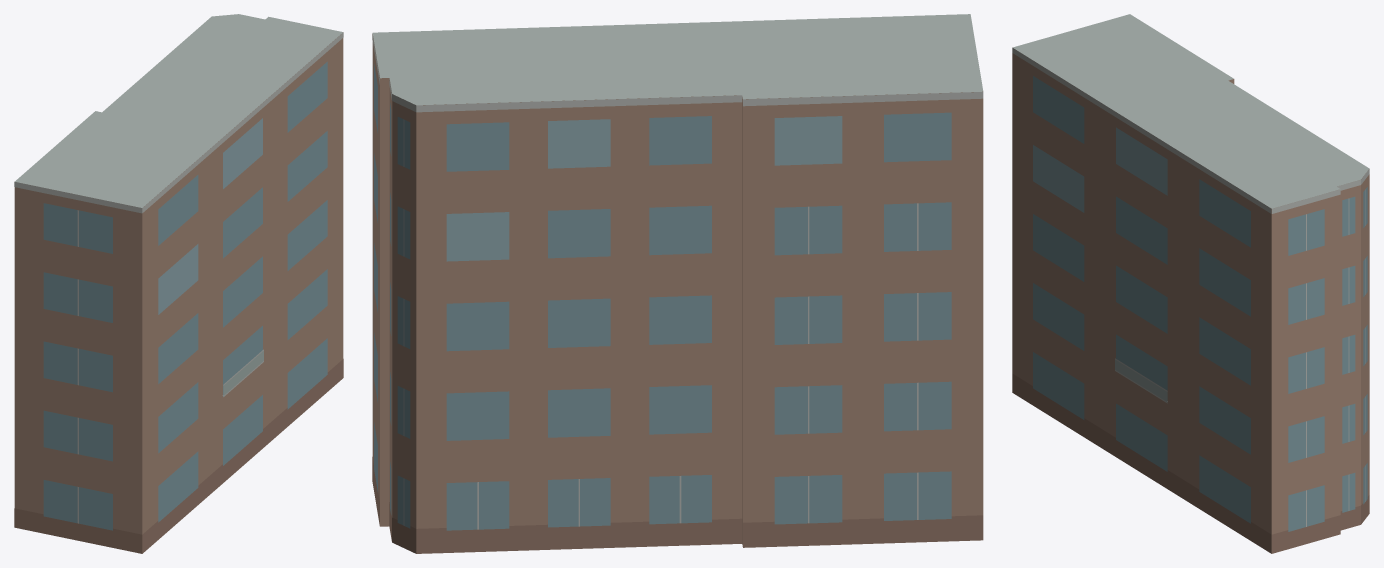
The model's file is survey-upis-32945297.glb.
The picture shows the model from 3 angles, left to right: view 1: azimuth 30°, elevation 25°; view 2: azimuth 150°, elevation 25°; view 3: azimuth 270°, elevation 25°; orthographic projection. The views are drawn at different scales.
Visible parts, largest first — view 1: survey-upis-32945297.tmp; view 2: survey-upis-32945297.tmp; view 3: survey-upis-32945297.tmp.
Part boxes in pixels (x1,y1,x2,y2): survey-upis-32945297.tmp: [14, 14, 343, 553]; survey-upis-32945297.tmp: [372, 14, 983, 553]; survey-upis-32945297.tmp: [1012, 14, 1369, 553].
Bounding box in the file's own units: 18.89 × 15.6 × 14.64.
